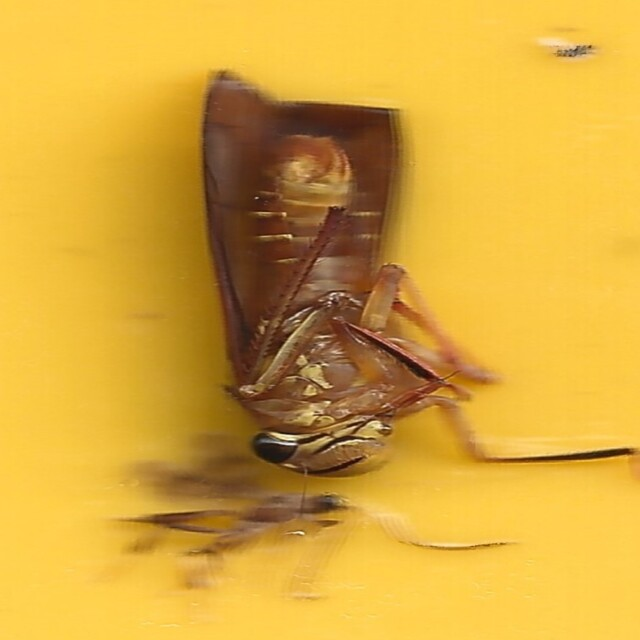Hemiptera: (186, 64, 496, 477)
Nematocera: (122, 488, 518, 576)
